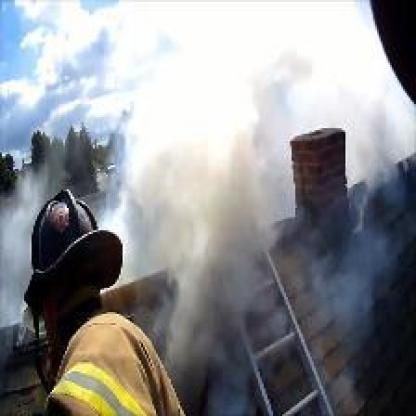other: (163, 65, 254, 160), (65, 359, 137, 412)
smoke: (121, 163, 267, 236)
